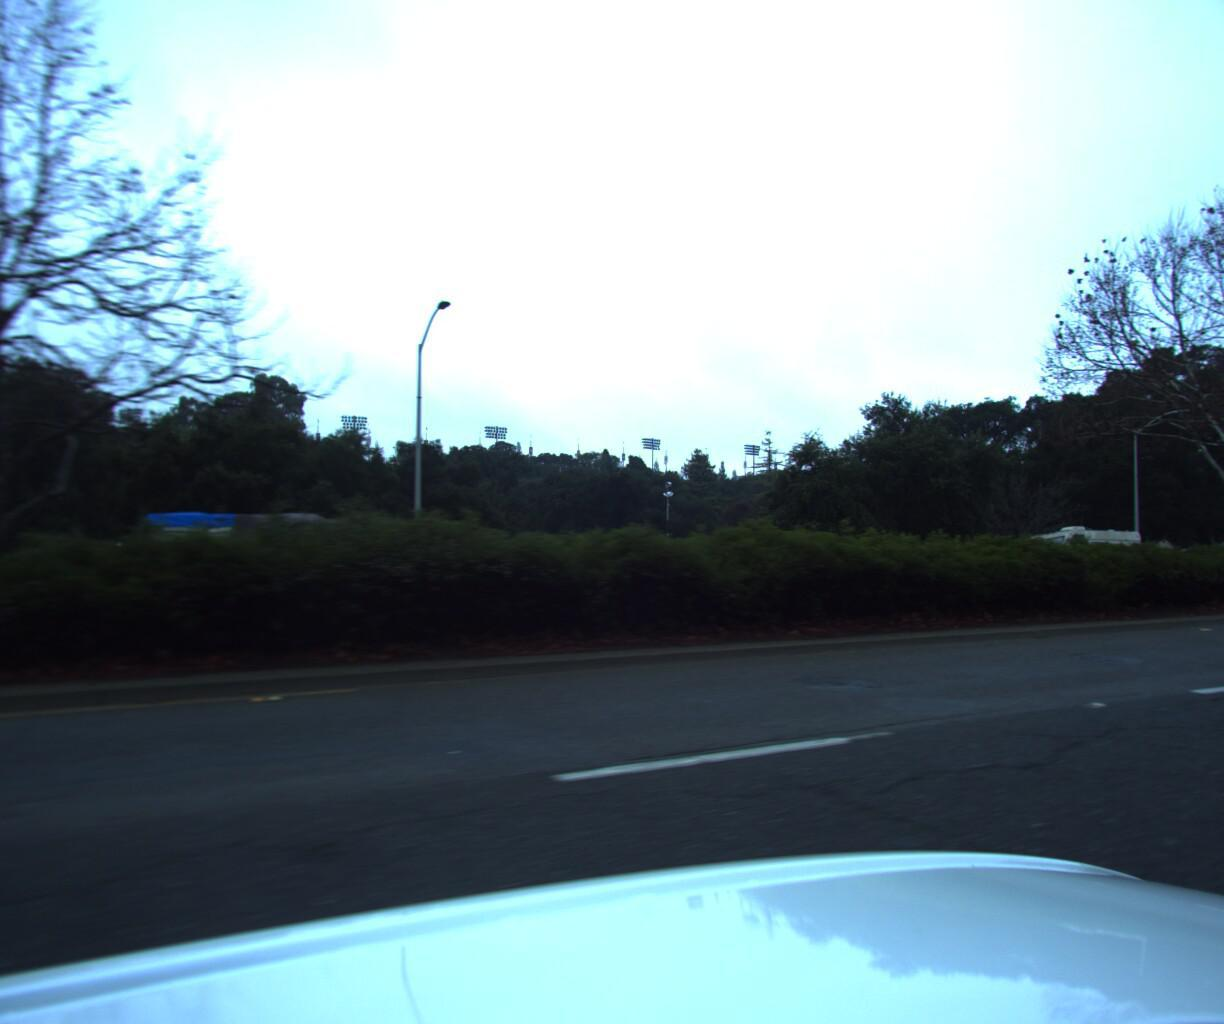other_vehicle: (124, 506, 377, 613), (1005, 518, 1139, 565)
